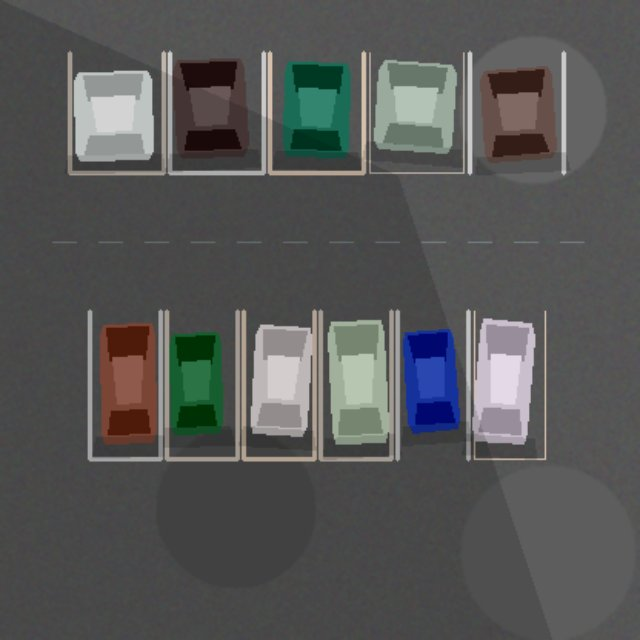space-occupied: (69, 52, 163, 172), (169, 52, 263, 172), (269, 52, 363, 172), (369, 52, 463, 172), (469, 52, 563, 172), (89, 311, 160, 458), (166, 311, 237, 458), (243, 311, 314, 458), (320, 311, 391, 458), (397, 311, 468, 458), (474, 311, 545, 458)
